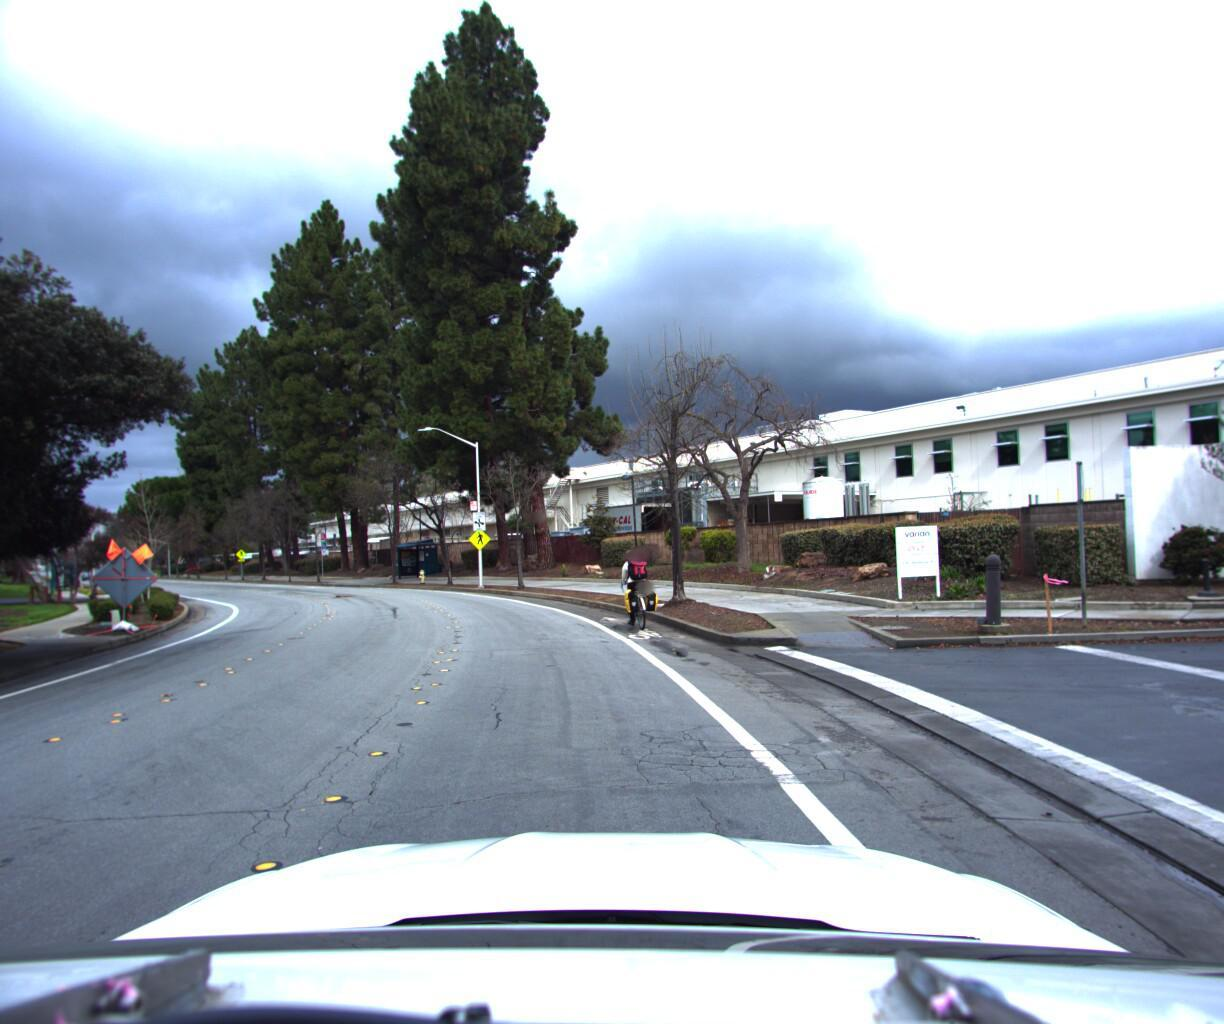bicycle: (603, 546, 663, 634)
truck: (579, 497, 686, 557), (431, 524, 467, 562)
